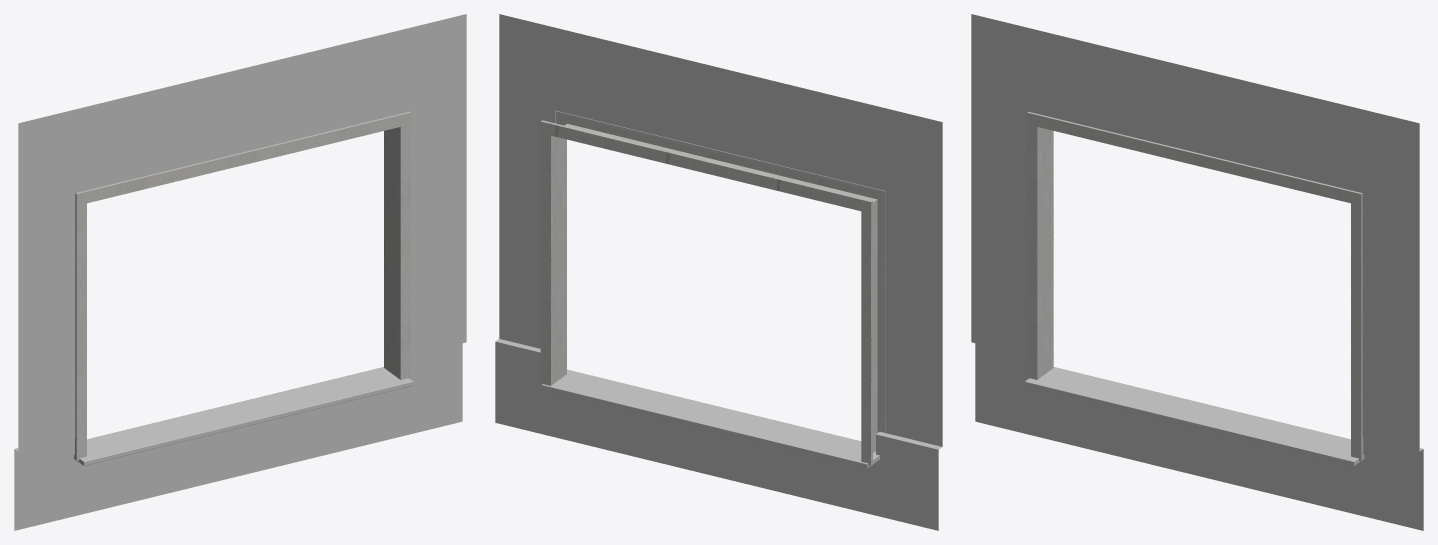
File: Wall_Door_Garage_A_4x.FBX
3 views of the same model, side by side, from view 1: azimuth 30°, elevation 25°; view 2: azimuth 150°, elevation 25°; view 3: azimuth 330°, elevation 25° (orthographic).
Parts seen in each view (by area): view 1: Wall_Door_Garage_A_4x; view 2: Wall_Door_Garage_A_4x; view 3: Wall_Door_Garage_A_4x.
Boxes of the visible parts, x1,y1,x2,y2 form: Wall_Door_Garage_A_4x: [14, 14, 466, 530]; Wall_Door_Garage_A_4x: [495, 14, 942, 530]; Wall_Door_Garage_A_4x: [971, 14, 1423, 530].
Size of the model in its own units: 400 by 350 by 34.48.
